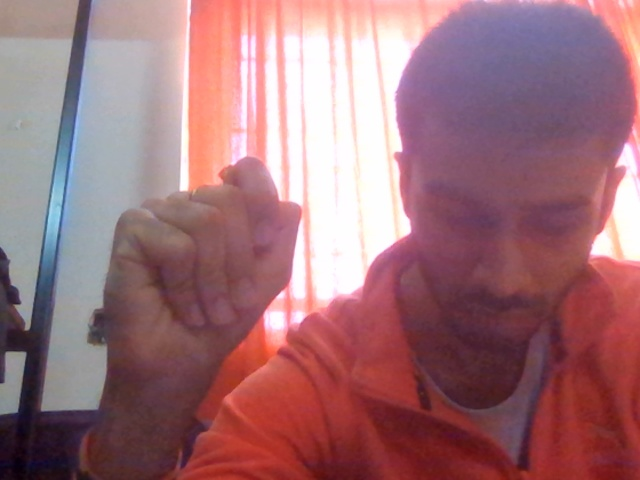T: (86, 130, 333, 473)
